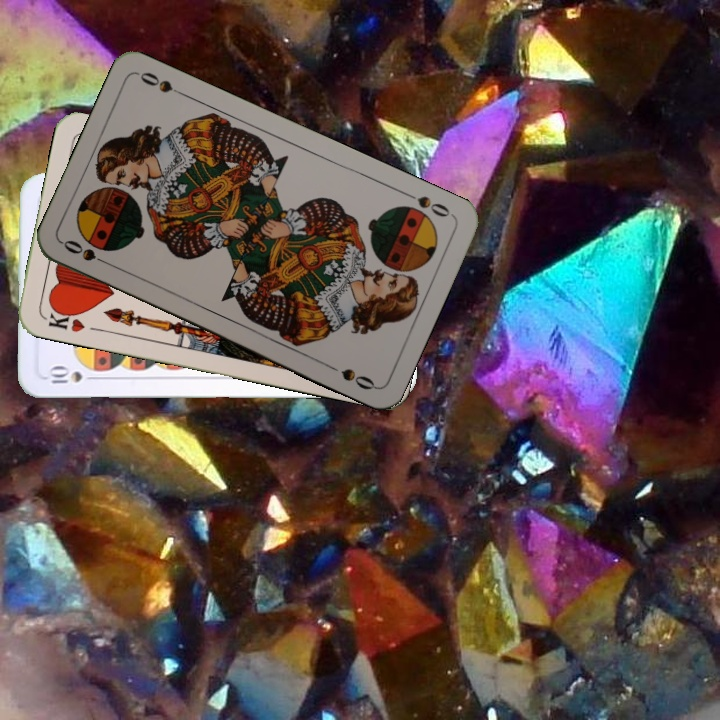HK: (40, 303, 87, 335)
S10: (42, 365, 101, 388)
SO: (59, 236, 115, 269), (400, 188, 456, 220)
